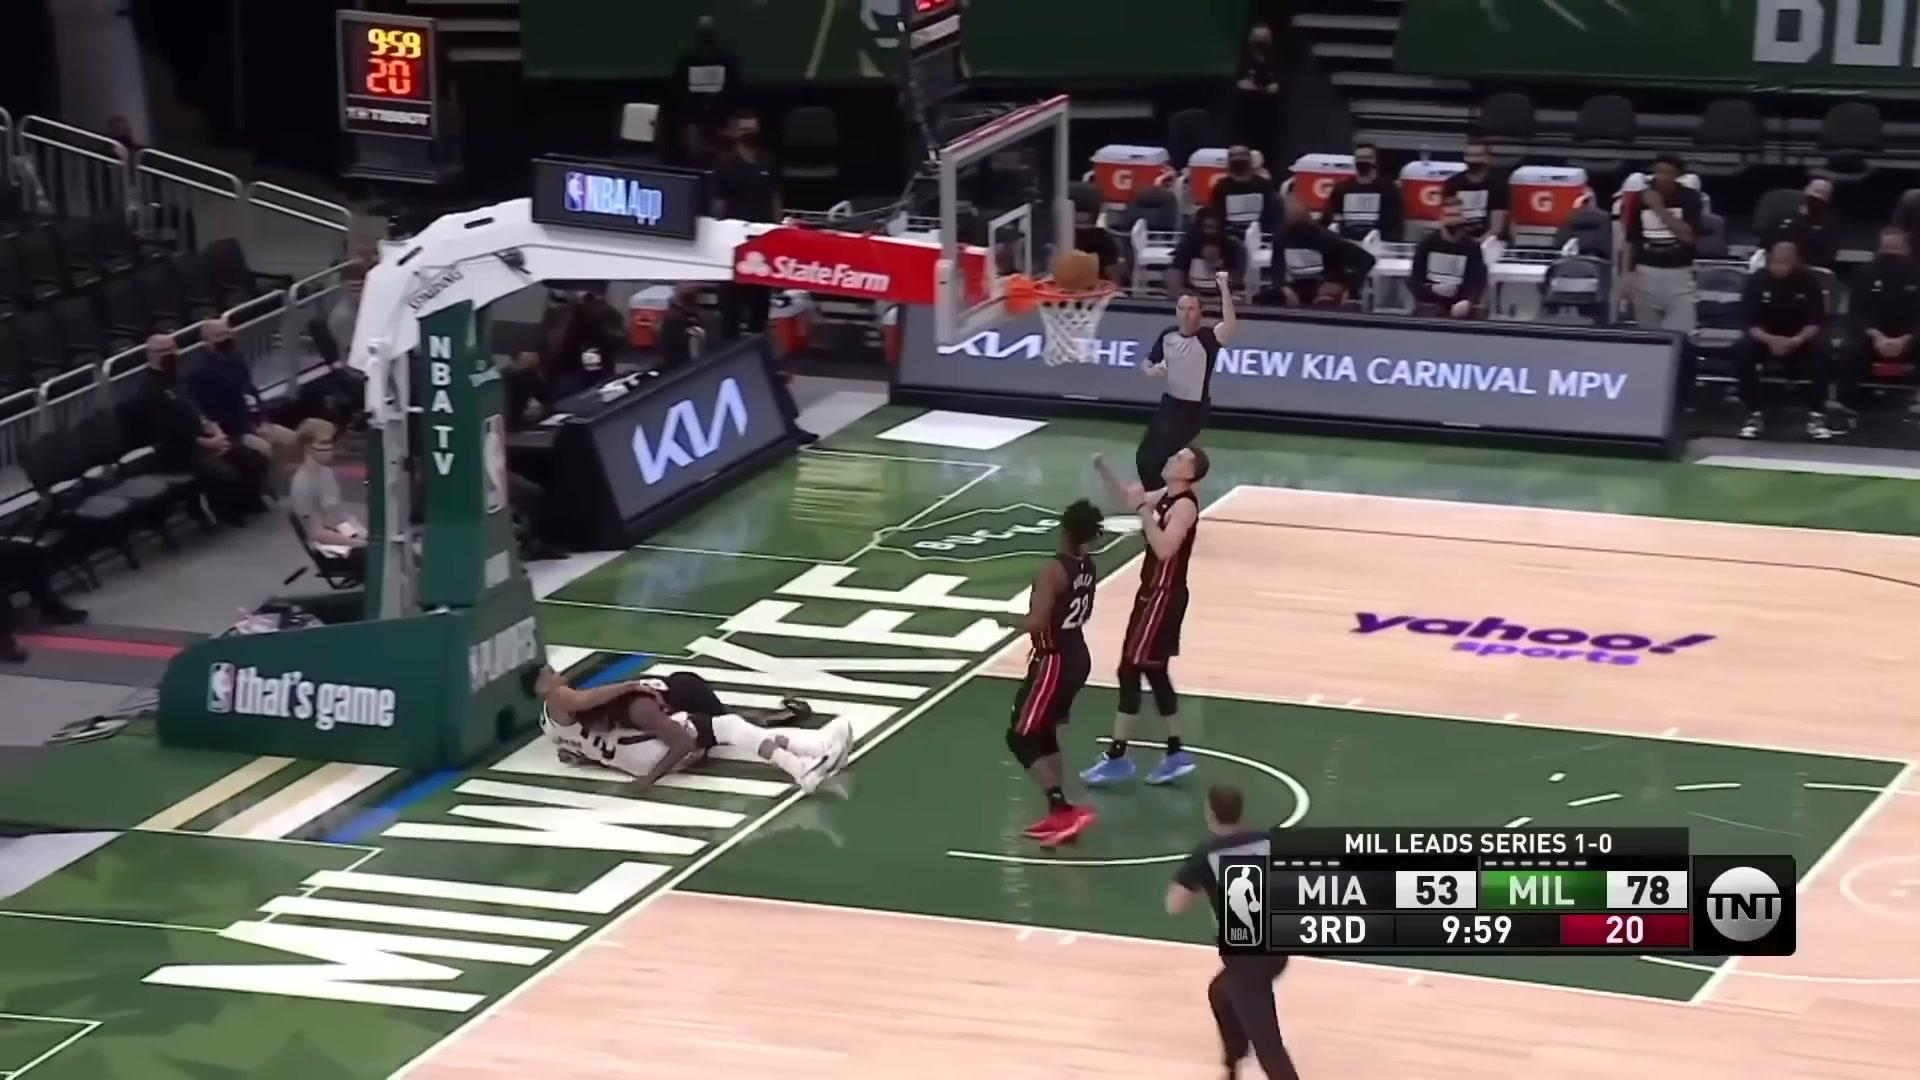foul: (513, 617, 886, 844)
